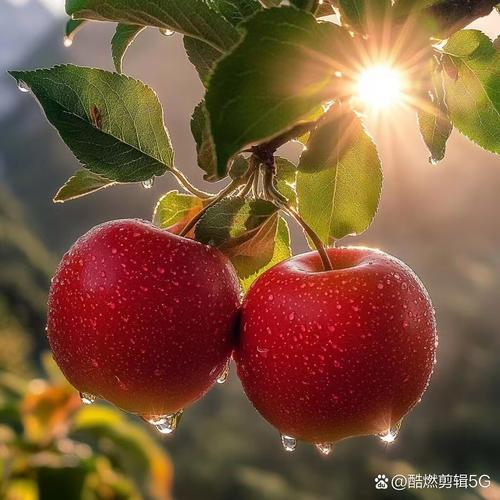ripe: (34, 212, 242, 423), (237, 236, 438, 454)
